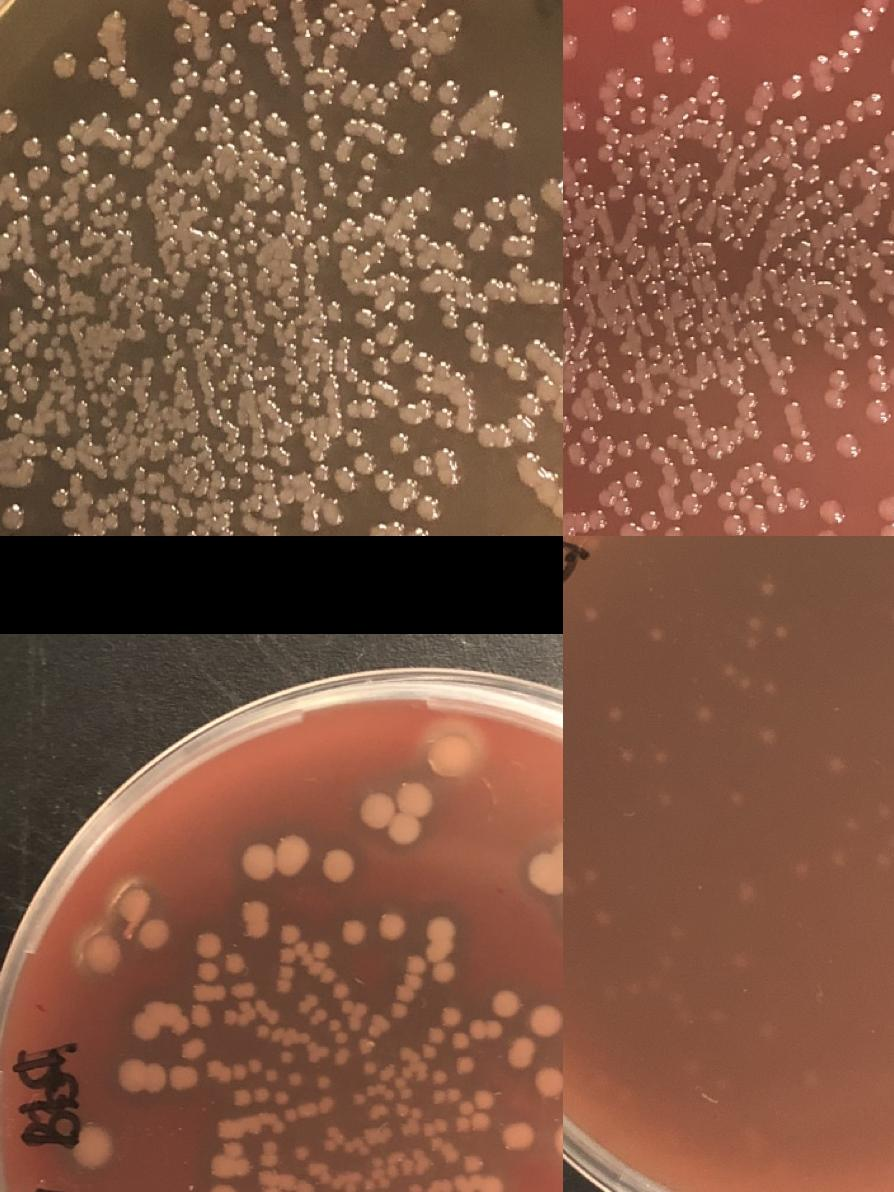pddamselae: (358, 778, 436, 845), (390, 954, 426, 1019), (526, 836, 563, 896), (276, 941, 314, 994), (116, 1057, 168, 1093), (531, 1043, 563, 1098), (209, 1140, 253, 1179), (84, 932, 124, 974), (457, 1088, 494, 1132), (242, 842, 279, 878), (320, 846, 356, 882), (241, 898, 270, 939), (333, 982, 369, 1015), (529, 1003, 563, 1037), (500, 1118, 534, 1152), (138, 916, 170, 950), (206, 1059, 248, 1084), (490, 987, 522, 1019), (426, 913, 458, 945), (378, 910, 408, 942), (338, 915, 368, 947), (232, 1084, 270, 1107), (468, 1017, 503, 1039), (195, 931, 223, 958), (422, 1026, 444, 1059), (395, 1065, 415, 1100), (430, 1085, 463, 1103), (223, 950, 247, 974), (326, 1017, 348, 1043), (366, 1081, 394, 1101), (344, 1135, 370, 1156), (433, 960, 457, 982), (463, 1152, 486, 1174), (454, 1054, 476, 1076), (440, 1004, 462, 1026), (198, 960, 220, 982), (323, 1124, 340, 1152), (280, 922, 300, 944), (553, 1118, 563, 1158), (207, 1181, 242, 1192), (452, 1032, 470, 1050), (316, 1096, 334, 1114), (320, 967, 336, 985), (248, 1056, 264, 1074), (265, 1008, 282, 1024), (314, 940, 329, 958), (224, 1008, 239, 1026), (434, 1116, 450, 1132), (274, 1089, 290, 1105), (262, 1138, 278, 1154), (434, 1068, 448, 1084), (368, 1023, 384, 1037), (393, 1104, 410, 1116), (362, 1060, 376, 1074), (352, 1091, 366, 1105), (296, 1144, 310, 1158), (288, 1071, 302, 1085), (284, 1107, 298, 1121), (264, 1067, 278, 1081), (256, 1023, 270, 1037), (314, 1007, 328, 1020), (370, 1156, 384, 1168), (318, 1076, 332, 1088), (281, 1050, 295, 1062), (238, 999, 251, 1011), (379, 1177, 391, 1189), (407, 1184, 424, 1192)
pdpiscicida: (717, 657, 755, 695), (594, 1073, 632, 1108), (627, 968, 668, 998), (744, 609, 766, 652), (798, 1064, 822, 1086), (578, 601, 602, 623), (826, 750, 848, 773), (735, 883, 758, 905), (723, 784, 745, 807), (872, 850, 894, 872), (869, 800, 891, 822), (842, 813, 864, 835), (833, 845, 855, 867), (791, 860, 813, 882), (772, 623, 794, 645), (762, 680, 784, 702), (759, 1016, 781, 1038), (759, 577, 781, 599), (758, 724, 780, 746), (708, 1003, 730, 1025), (694, 701, 716, 723), (664, 918, 686, 940), (663, 985, 685, 1007), (662, 944, 684, 966), (652, 786, 674, 808), (648, 746, 670, 768), (645, 621, 667, 643), (604, 701, 626, 723), (591, 909, 613, 931), (580, 869, 602, 891), (730, 945, 751, 968), (617, 744, 638, 766), (577, 536, 599, 556), (563, 867, 576, 889), (881, 829, 894, 850), (888, 604, 894, 626)
sinniae: (565, 74, 650, 206), (806, 0, 890, 99), (379, 0, 435, 105), (334, 424, 398, 494), (510, 449, 563, 533), (578, 506, 698, 536), (482, 190, 542, 237), (638, 490, 706, 531), (468, 338, 530, 382), (216, 217, 260, 276), (758, 474, 812, 516), (344, 366, 384, 422), (563, 413, 600, 468), (214, 438, 251, 492), (861, 366, 894, 425), (712, 489, 750, 536), (170, 56, 202, 110), (811, 493, 848, 536), (289, 378, 322, 424), (430, 132, 471, 167), (362, 336, 394, 380), (652, 50, 702, 78), (164, 0, 193, 46), (472, 420, 516, 450), (705, 422, 736, 462), (92, 486, 133, 516), (830, 427, 862, 463), (704, 8, 736, 44), (610, 0, 642, 36), (356, 148, 380, 194), (0, 103, 18, 163), (846, 92, 884, 120), (665, 433, 698, 465), (616, 430, 652, 459), (1, 500, 28, 536), (824, 369, 848, 409), (611, 468, 644, 496), (52, 46, 78, 80), (316, 160, 338, 200), (306, 112, 328, 151), (478, 87, 506, 117), (86, 52, 114, 82), (875, 492, 894, 536), (438, 307, 466, 335), (384, 129, 412, 157), (324, 296, 352, 324), (117, 74, 143, 104), (215, 37, 242, 65), (519, 390, 545, 419), (154, 311, 195, 329), (497, 231, 523, 259), (494, 120, 520, 148), (480, 273, 506, 301), (450, 203, 476, 231), (438, 6, 464, 34), (414, 494, 440, 522), (412, 451, 438, 479), (394, 296, 420, 324), (388, 429, 414, 457), (354, 306, 380, 334), (213, 6, 239, 34), (18, 133, 44, 161), (798, 133, 824, 161), (74, 149, 94, 185), (24, 338, 56, 360), (438, 78, 464, 105), (592, 336, 612, 371), (563, 28, 582, 64), (20, 360, 42, 391), (754, 79, 780, 105), (741, 104, 767, 130), (719, 371, 745, 397), (116, 187, 143, 211), (690, 158, 709, 192), (31, 292, 54, 320), (635, 310, 658, 338), (646, 340, 663, 373), (200, 252, 220, 278), (710, 92, 730, 118), (679, 0, 711, 16), (563, 225, 583, 250), (734, 225, 752, 252), (434, 407, 456, 429), (740, 202, 766, 219), (310, 200, 330, 222), (310, 15, 330, 37), (262, 0, 282, 22), (200, 280, 220, 302), (56, 133, 76, 155), (182, 521, 211, 536), (144, 94, 162, 118), (406, 523, 439, 536), (0, 381, 12, 416), (416, 370, 434, 393), (795, 440, 815, 460), (785, 76, 805, 96), (772, 442, 792, 462), (316, 235, 334, 257), (285, 140, 303, 162), (179, 496, 196, 519), (829, 118, 848, 138), (651, 91, 670, 111), (605, 65, 624, 85), (574, 155, 593, 175), (398, 250, 415, 272), (681, 96, 701, 114), (634, 146, 652, 166), (169, 285, 188, 303), (592, 313, 610, 332), (664, 347, 684, 364), (658, 379, 675, 399), (227, 96, 245, 114), (227, 66, 245, 84), (192, 122, 210, 140), (145, 276, 163, 294), (126, 112, 144, 130), (118, 358, 136, 376), (100, 170, 118, 188), (636, 395, 652, 415), (266, 207, 283, 225), (258, 174, 276, 191), (670, 123, 686, 142), (663, 154, 678, 174), (660, 214, 675, 234), (606, 394, 620, 414), (563, 378, 577, 398), (838, 211, 855, 227), (745, 421, 762, 437), (118, 148, 133, 166), (340, 134, 356, 150), (220, 340, 236, 356), (216, 378, 232, 394), (854, 238, 870, 254), (838, 170, 854, 186), (792, 328, 808, 344), (162, 143, 176, 161), (99, 410, 113, 428), (99, 196, 113, 214), (68, 216, 82, 234), (46, 282, 60, 300), (46, 226, 60, 244), (39, 194, 53, 212), (716, 266, 730, 284), (563, 108, 572, 136), (283, 340, 298, 356), (263, 362, 278, 378), (879, 237, 894, 253), (870, 286, 884, 302), (78, 414, 91, 431), (130, 524, 148, 536), (316, 464, 330, 479), (834, 345, 848, 360), (672, 404, 687, 418), (666, 472, 681, 486), (210, 215, 224, 229), (200, 311, 214, 325), (188, 192, 202, 206), (171, 450, 185, 464), (125, 409, 139, 423), (716, 148, 730, 162), (652, 444, 666, 458), (246, 334, 260, 346), (234, 200, 248, 212), (834, 244, 848, 256), (826, 256, 838, 270), (812, 187, 826, 199), (773, 316, 785, 330), (727, 339, 739, 353), (563, 285, 573, 301), (226, 294, 240, 304), (220, 397, 234, 407)
